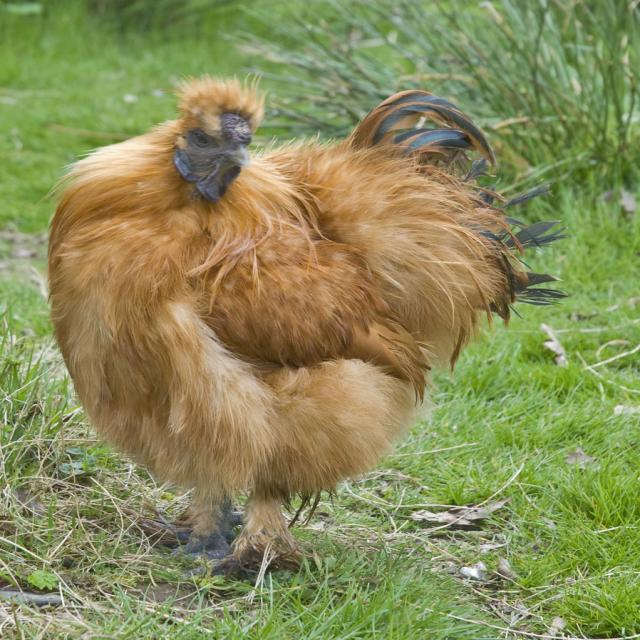Chicken: (49, 72, 555, 575)
